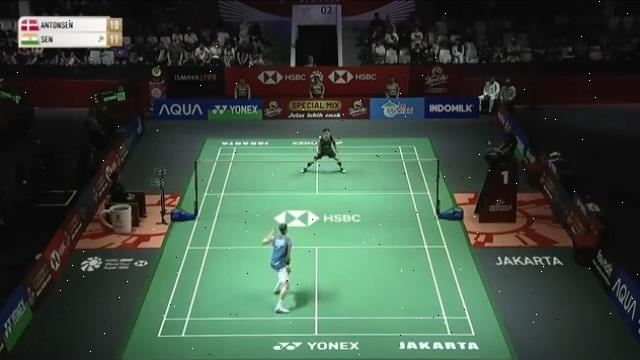Shuttlecock: (318, 133, 324, 140)
